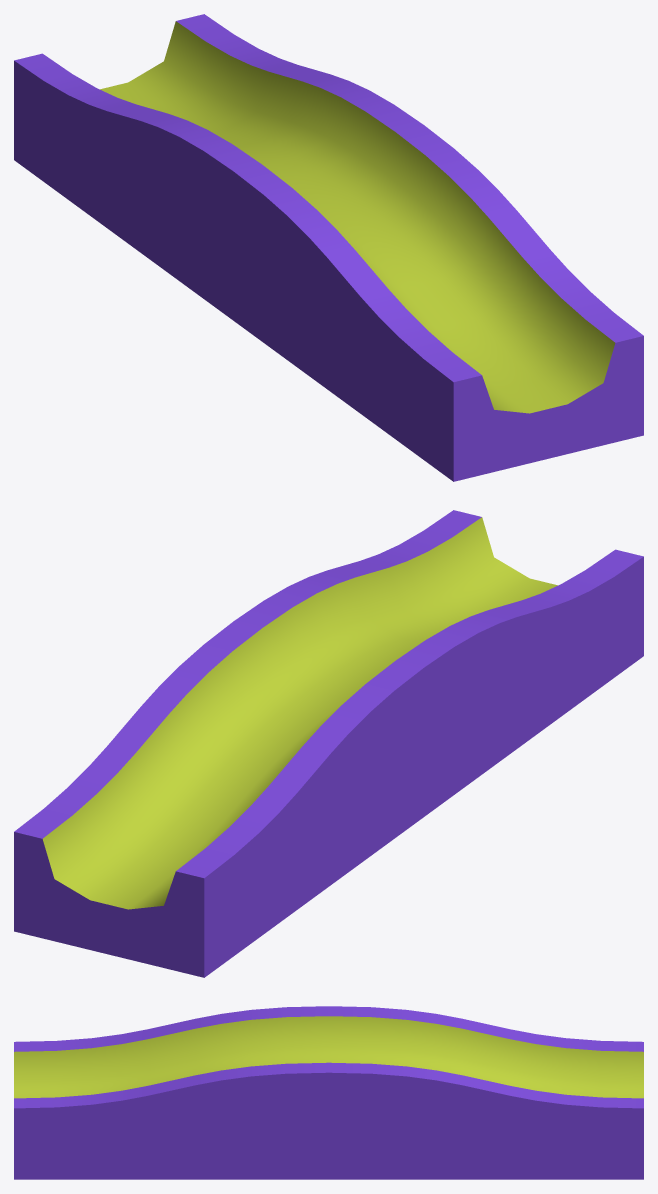
Rendered from bump_solid_A-col.dae.
3 views of the same model, one above another, from view 1: azimuth 30°, elevation 25°; view 2: azimuth 150°, elevation 25°; view 3: azimuth 270°, elevation 25° (orthographic). The views are drawn at different scales.
Parts seen in each view (by area): view 1: bump_solid_A-col; view 2: bump_solid_A-col; view 3: bump_solid_A-col.
Boxes of the visible parts, x1,y1,x2,y2 form: bump_solid_A-col: [14, 14, 643, 481]; bump_solid_A-col: [14, 510, 643, 977]; bump_solid_A-col: [14, 1006, 643, 1179].
Bounding box in the file's own units: 1 × 4 × 0.75.
